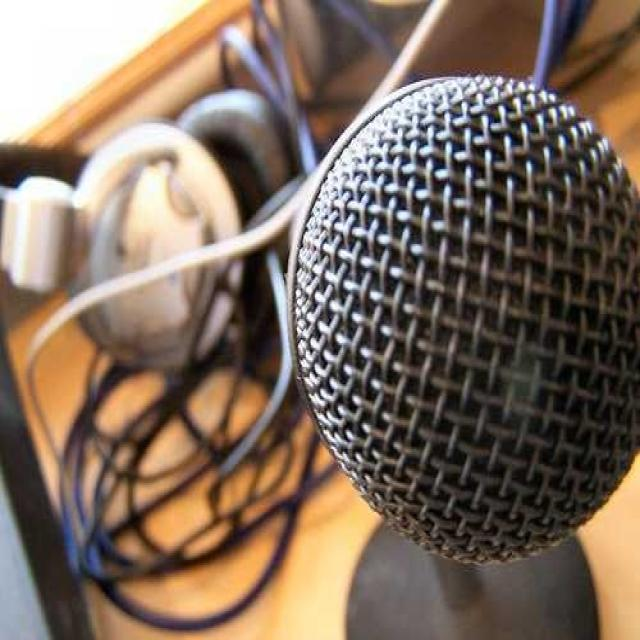microphone: (288, 73, 634, 562)
